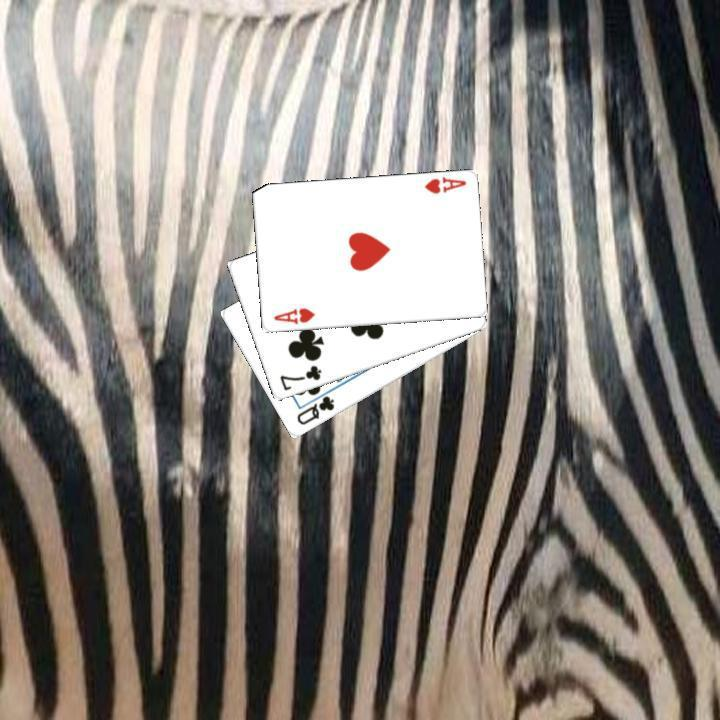7: (275, 361, 323, 393)
A: (420, 173, 468, 196), (269, 304, 316, 326)
Q: (292, 392, 336, 427)
